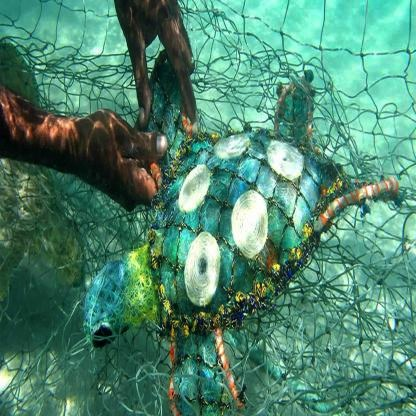net: (15, 18, 416, 416)
